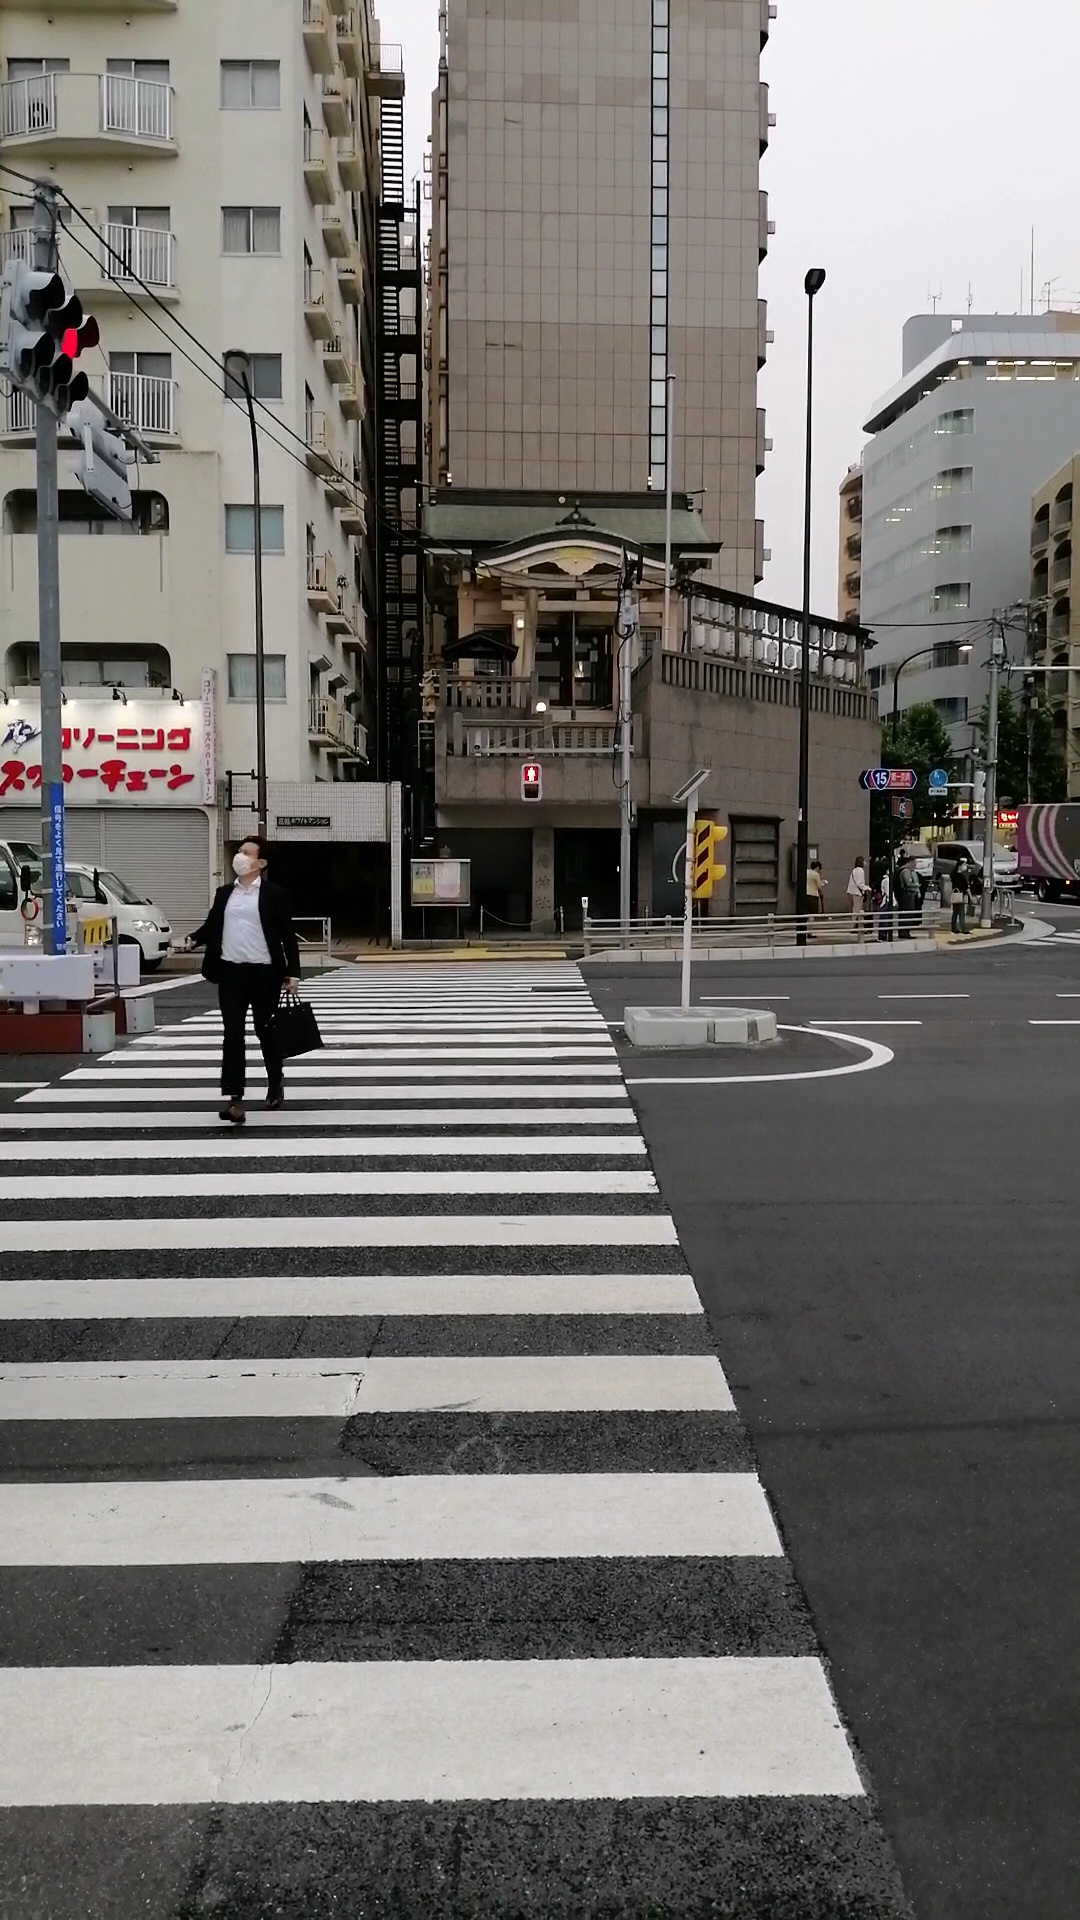red: (520, 762, 543, 802)
